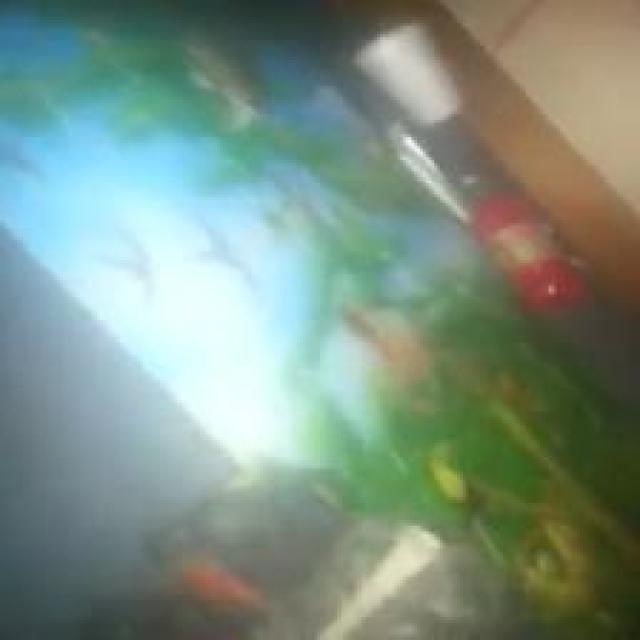other: (68, 192, 309, 458), (469, 178, 556, 308)
